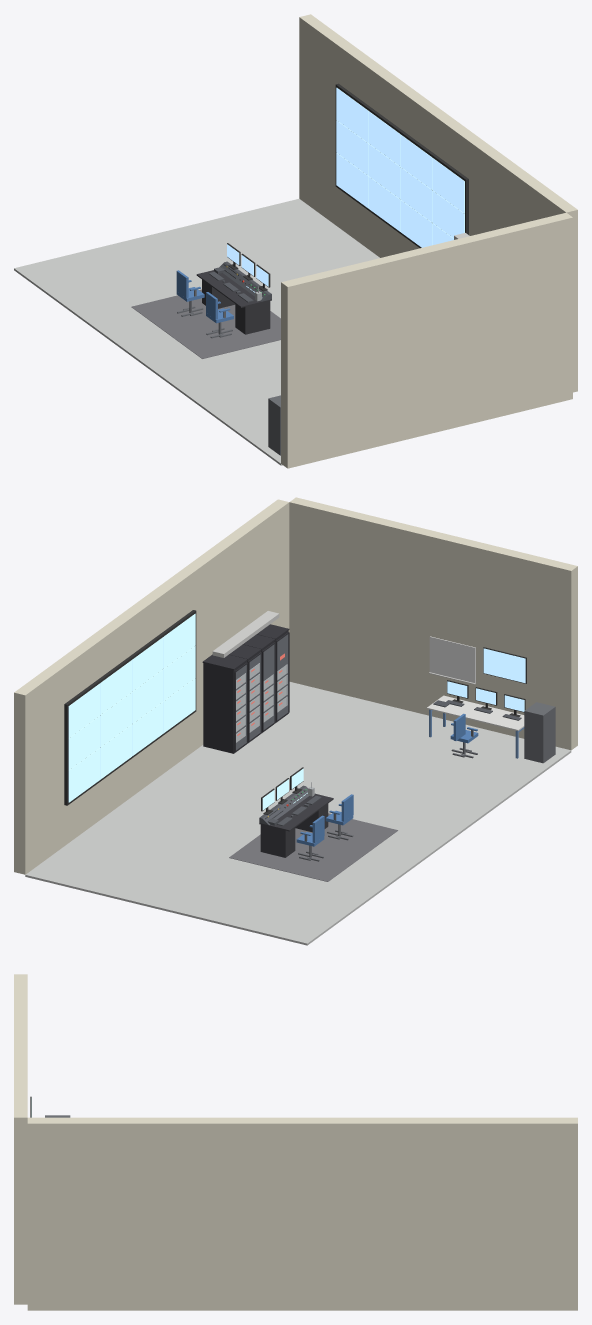
The model's file is control_room.glb.
The picture shows the model from 3 angles, top to bottom: view 1: azimuth 30°, elevation 25°; view 2: azimuth 150°, elevation 25°; view 3: azimuth 270°, elevation 25°; orthographic projection. The views are drawn at different scales.
Parts seen in each view (by area): view 1: Walls, Floor, CarpetMat, Console_Desk, VideoWall_Frame, ui_VideoWall_r2c4, ui_VideoWall_r3c3, ui_VideoWall_r1c3, ui_VideoWall_r1c4, ui_VideoWall_r2c2, ui_VideoWall_r1c1, ui_VideoWall_r1c2 (+6 smaller); view 2: Walls, Floor, CarpetMat, Cabinet_1_RTP3000_RPS_RCS, Console_Desk, DiagBench_Rack, VideoWall_Frame, Whiteboard, DiagBench_Top, DiagBench_WallMonitor, ui_VideoWall_r1c1, ui_VideoWall_r2c4 (+20 smaller); view 3: Walls.
Boxes of the visible parts, <box> form: Walls: <box>281,14,577,468</box>; Floor: <box>14,198,379,465</box>; CarpetMat: <box>131,289,280,358</box>; Console_Desk: <box>196,270,271,334</box>; VideoWall_Frame: <box>335,83,468,248</box>; ui_VideoWall_r2c4: <box>336,120,368,175</box>; ui_VideoWall_r3c3: <box>368,176,400,231</box>; ui_VideoWall_r1c3: <box>368,111,400,166</box>; ui_VideoWall_r1c4: <box>336,87,368,142</box>; ui_VideoWall_r2c2: <box>400,167,432,222</box>; ui_VideoWall_r1c1: <box>432,158,464,213</box>; ui_VideoWall_r1c2: <box>400,135,432,189</box>; Walls: <box>14,497,577,874</box>; Floor: <box>25,682,571,945</box>; CarpetMat: <box>229,813,397,881</box>; Cabinet_1_RTP3000_RPS_RCS: <box>202,654,247,753</box>; Console_Desk: <box>259,793,333,857</box>; DiagBench_Rack: <box>524,702,555,763</box>; VideoWall_Frame: <box>64,610,196,805</box>; Whiteboard: <box>429,636,475,683</box>; DiagBench_Top: <box>426,695,524,730</box>; DiagBench_WallMonitor: <box>483,648,525,683</box>; ui_VideoWall_r1c1: <box>163,613,195,668</box>; ui_VideoWall_r2c4: <box>68,716,100,770</box>; Walls: <box>14,974,577,1310</box>.
Bounding box in the file's own units: 7.7 × 4.55 × 12.3.
